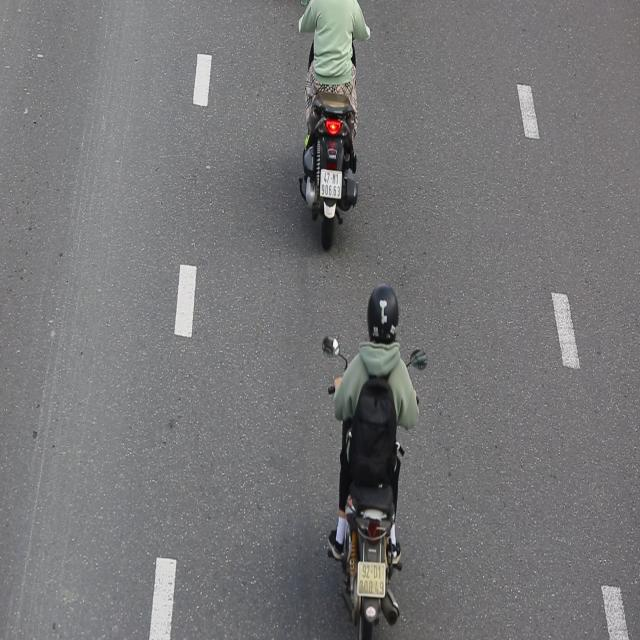motorbike: (314, 270, 432, 640)
